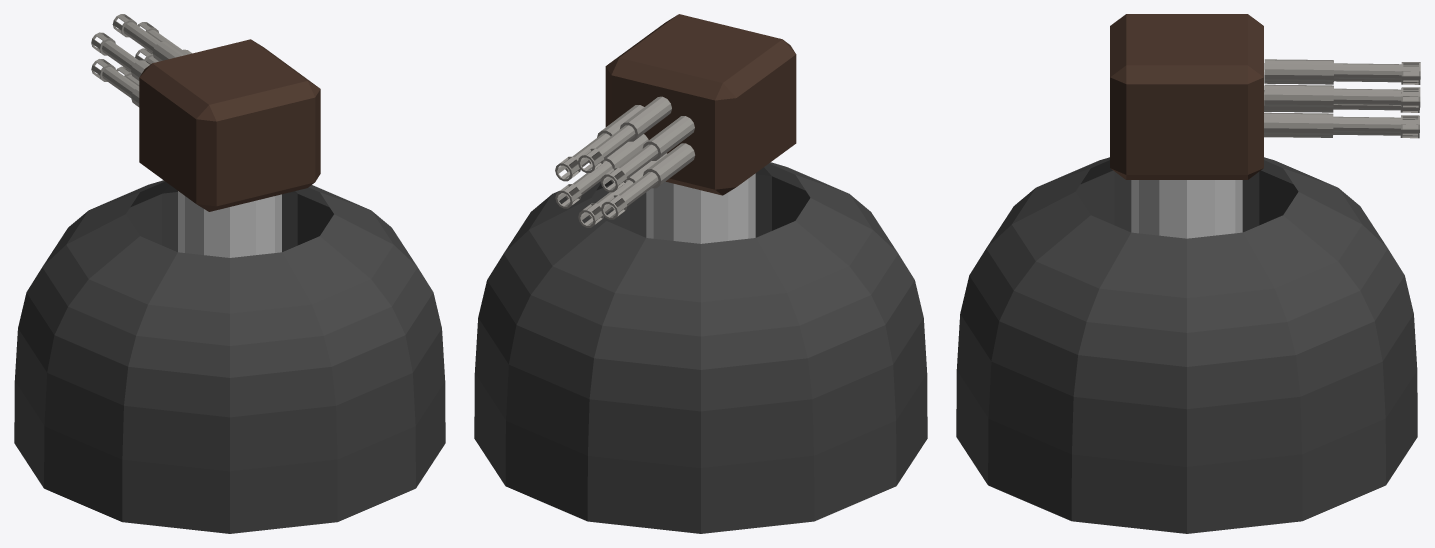
File: rapiblast.fbx
The picture shows the model from 3 angles, left to right: view 1: azimuth 30°, elevation 25°; view 2: azimuth 150°, elevation 25°; view 3: azimuth 270°, elevation 25°; orthographic projection. The views are drawn at different scales.
Visible parts, largest first — view 1: Cylinder, Cube, Cylinder.001, Cylinder.004; view 2: Cylinder, Cube, Cylinder.004, Cylinder.001; view 3: Cylinder, Cube, Cylinder.004, Cylinder.001.
Boxes of the visible parts, left/top/right/bottom form: Cylinder: left=14, top=180, right=445, bottom=533; Cube: left=139, top=39, right=320, bottom=211; Cylinder.001: left=178, top=191, right=281, bottom=257; Cylinder.004: left=91, top=14, right=191, bottom=107; Cylinder: left=474, top=162, right=927, bottom=533; Cube: left=605, top=14, right=796, bottom=195; Cylinder.004: left=555, top=96, right=695, bottom=227; Cylinder.001: left=646, top=173, right=755, bottom=243; Cylinder: left=956, top=157, right=1417, bottom=533; Cube: left=1110, top=14, right=1263, bottom=179; Cylinder.004: left=1264, top=59, right=1420, bottom=138; Cylinder.001: left=1131, top=180, right=1242, bottom=238.
Size of the model in its own units: 604 by 598 by 570.
